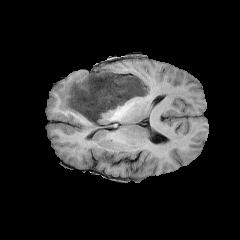glioma: (58, 71, 150, 130)
